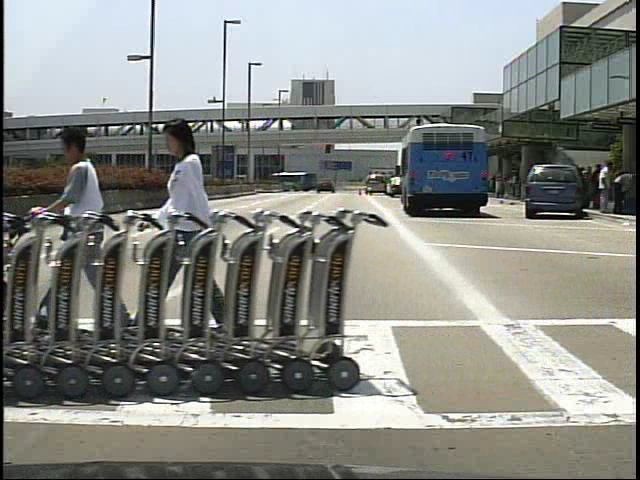person: (151, 111, 238, 350), (46, 121, 122, 340), (597, 160, 618, 216), (589, 164, 604, 214)
